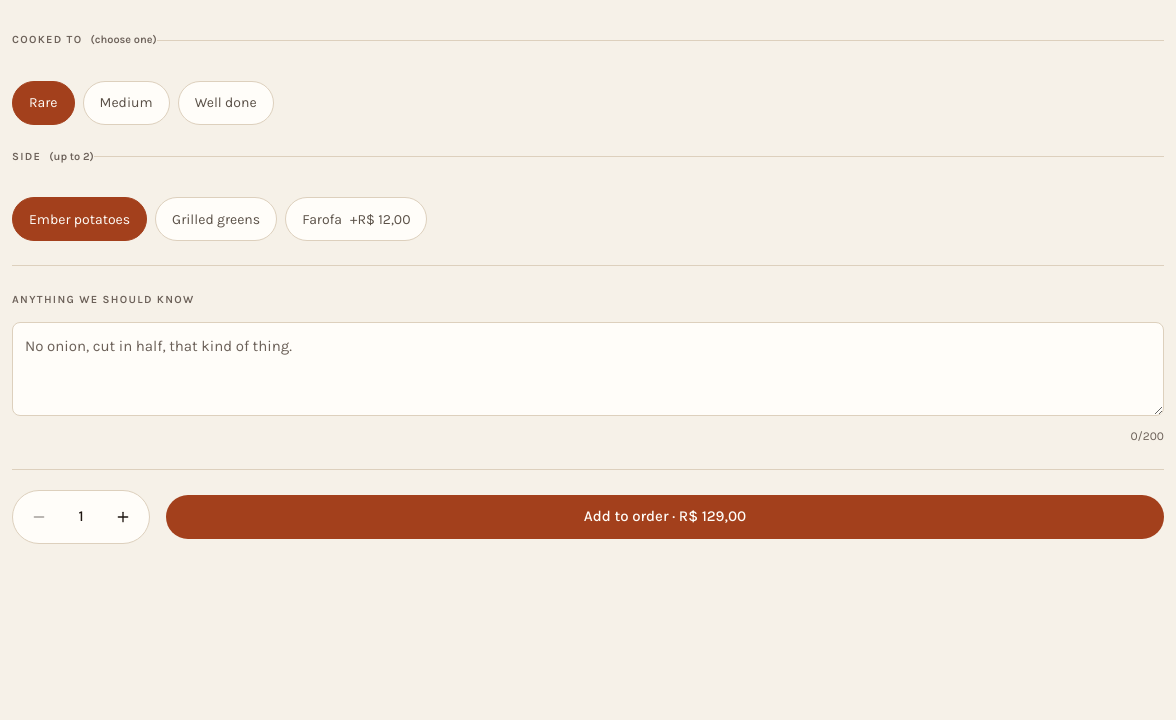
Scenario: ProductCustomizer › adds the cost of a paid extra to the button
Click the button "Farofa+R$ 12,00".
click(356, 219)  # box [285, 197, 428, 241]
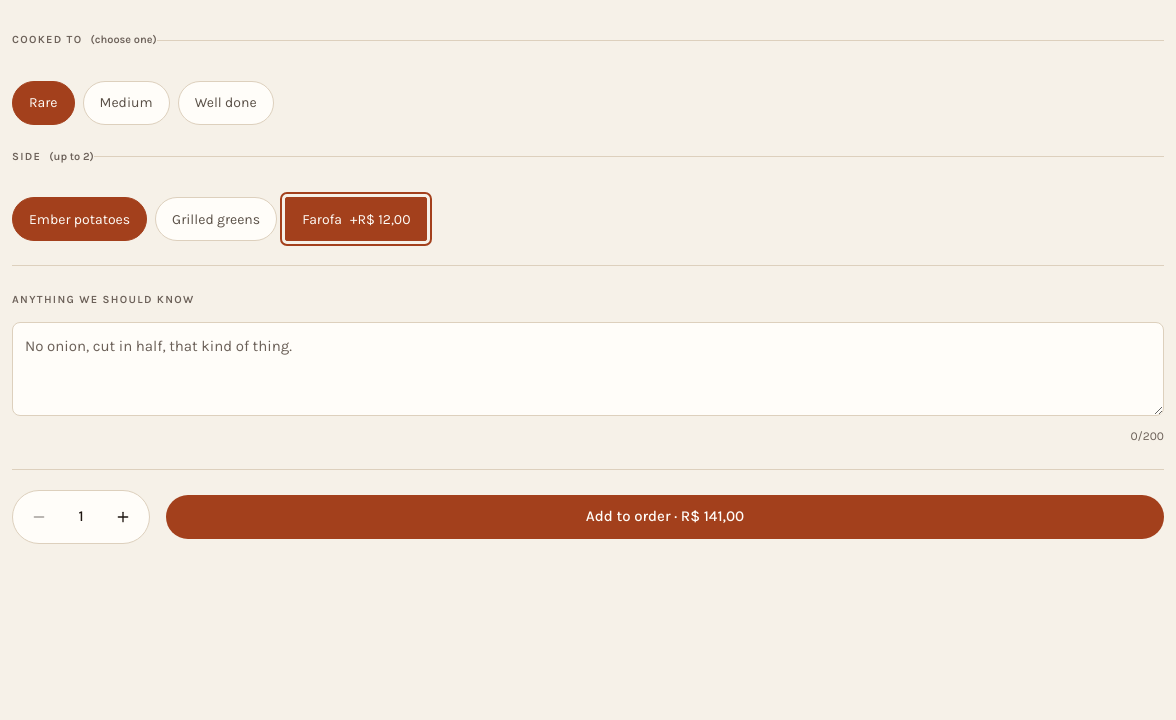
Check: the button "Add to order · R$ 141,00" is shown, box [166, 494, 1164, 538]
